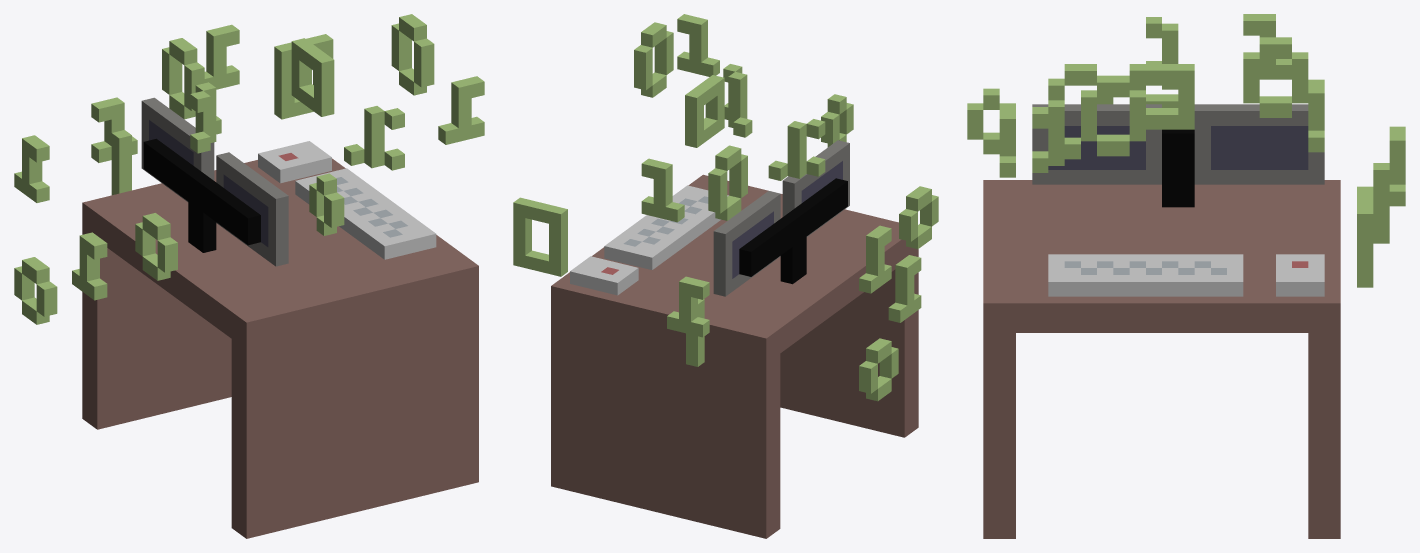
3 renders of one model, left to right at view 1: azimuth 30°, elevation 25°; view 2: azimuth 150°, elevation 25°; view 3: azimuth 270°, elevation 25°, orthographic. The views are drawn at different scales.
Visible parts, largest first — view 1: defaultobject; view 2: defaultobject; view 3: defaultobject.
Part boxes in pixels (<box>): defaultobject: <box>14,14,484,538</box>; defaultobject: <box>513,14,938,538</box>; defaultobject: <box>967,14,1405,538</box>.
Size of the model in its own units: 27 by 31 by 27.
